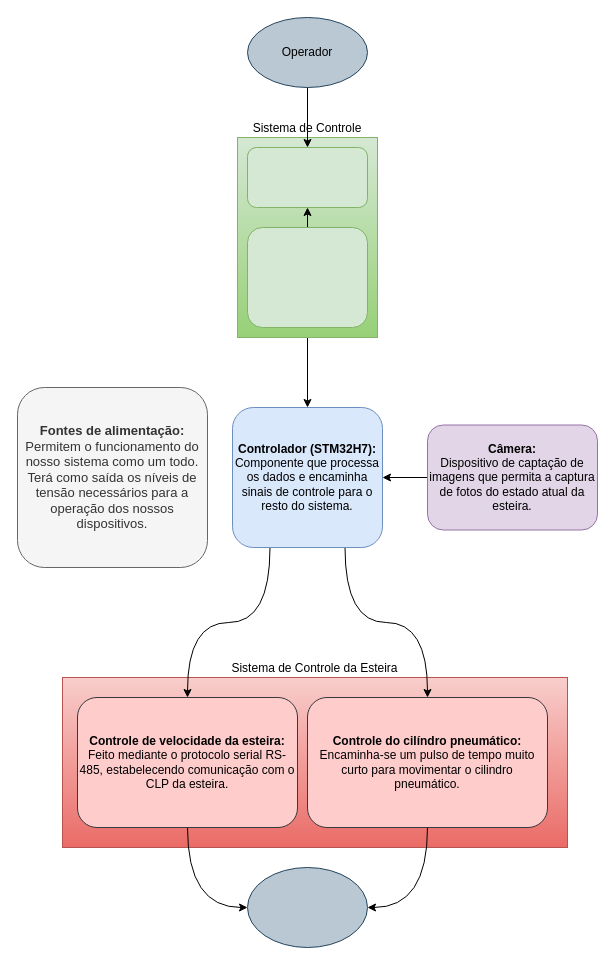
Image size: 615x965. Some labels were removed from this diagram. The centre of each missing label's shape, as x and y in pixels:
"Conexão com controlador: Recebe e encaminha informações de configuração." goes at pixel 307 277.
"Display LCD" goes at pixel 307 177.
"Esteira" goes at pixel 307 907.
